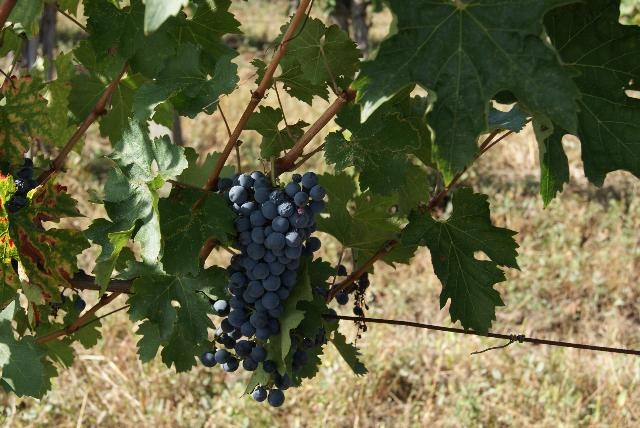grapes: (201, 171, 326, 406)
